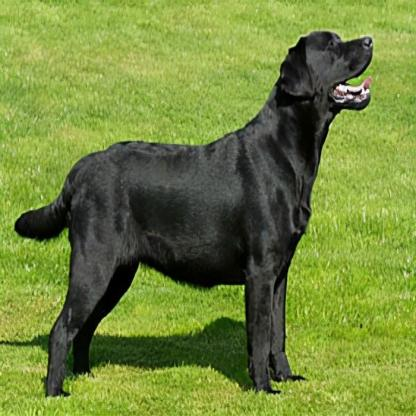dog: (14, 26, 374, 397)
